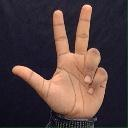hand: (11, 4, 108, 120)
